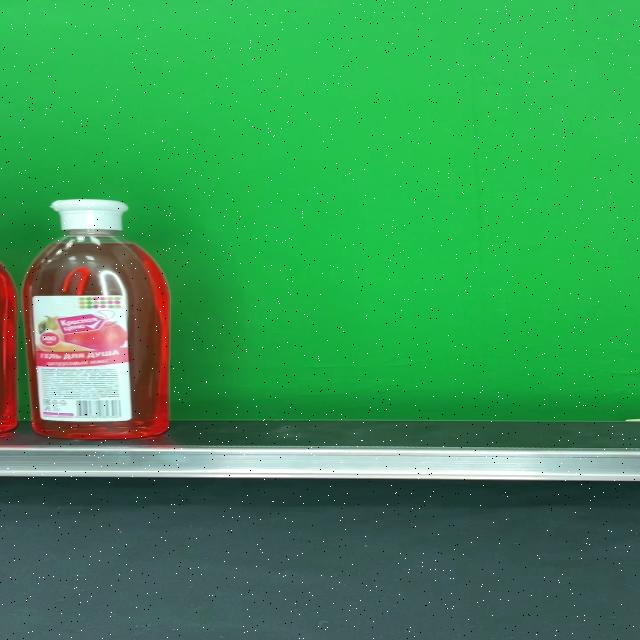Bottle: (23, 199, 171, 440)
Cap: (50, 199, 129, 231)
